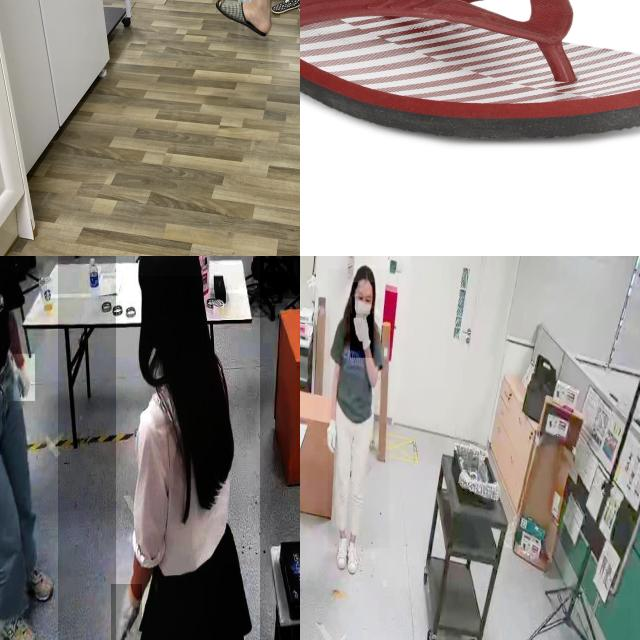Sandals: (300, 0, 640, 143)
face_mask: (352, 296, 372, 318)
hand_glove: (111, 583, 142, 640), (350, 313, 374, 358), (13, 354, 35, 401), (325, 414, 339, 458)
head_nohelmet: (135, 256, 202, 276), (354, 265, 376, 283)
person: (115, 256, 260, 640), (0, 256, 58, 640), (328, 269, 390, 549)
shoes: (16, 558, 56, 606), (0, 597, 37, 640), (346, 535, 362, 578), (332, 532, 348, 571)
